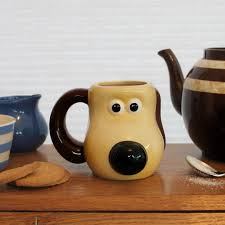mug: (48, 68, 170, 189)
